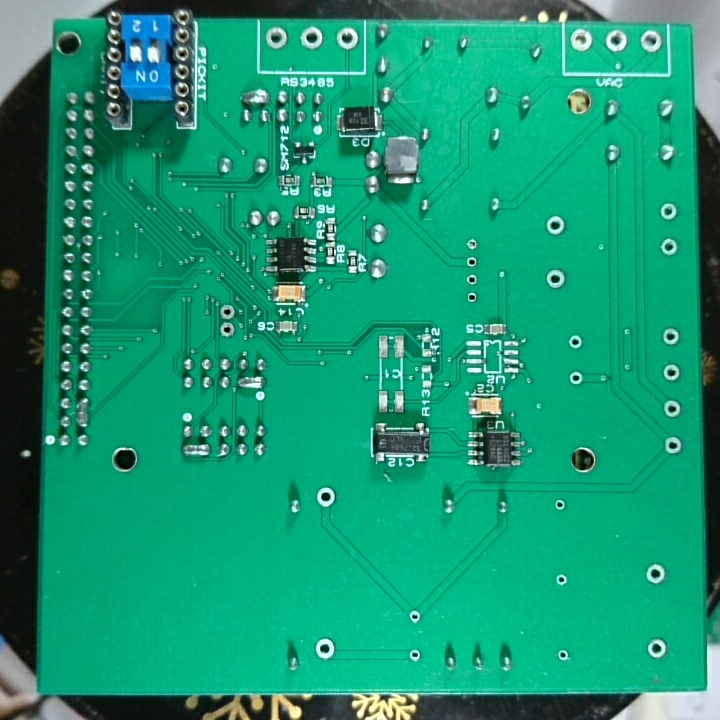F: (311, 635, 339, 663), (568, 26, 595, 55), (262, 25, 291, 52), (299, 24, 325, 52), (639, 27, 664, 56), (645, 635, 669, 665), (334, 26, 360, 53), (642, 560, 668, 587), (604, 28, 629, 54), (543, 266, 567, 293), (543, 213, 568, 236), (314, 485, 336, 510), (659, 235, 680, 260), (661, 434, 684, 456), (661, 398, 683, 421), (660, 325, 681, 349), (661, 361, 682, 384), (659, 200, 679, 222), (217, 319, 237, 340), (565, 332, 585, 352), (217, 303, 238, 321), (463, 252, 482, 271), (463, 233, 481, 252), (463, 269, 481, 288), (463, 287, 481, 306), (553, 571, 571, 589), (407, 645, 423, 665), (568, 370, 584, 389), (406, 607, 422, 626), (552, 495, 567, 515), (556, 646, 571, 665)
P: (179, 440, 212, 463), (74, 395, 93, 431), (236, 372, 268, 392), (240, 86, 271, 106)
